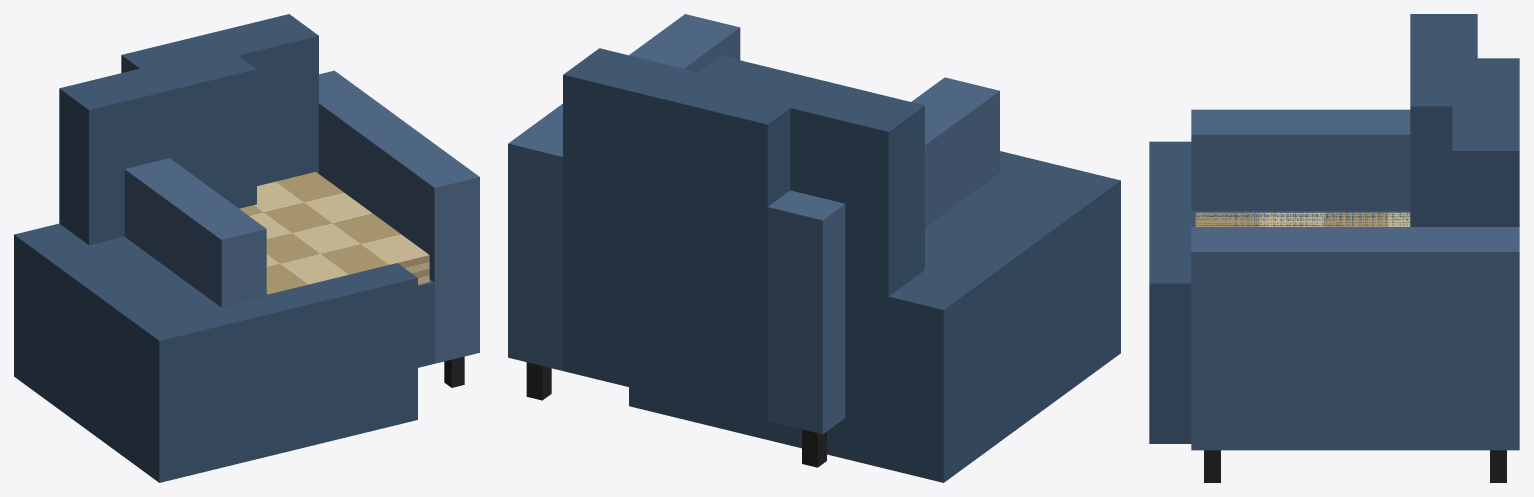
The model's file is test-armchair.glb.
3 renders of one model, left to right at view 1: azimuth 30°, elevation 25°; view 2: azimuth 150°, elevation 25°; view 3: azimuth 270°, elevation 25°, orthographic. The views are drawn at different scales.
Visible parts, largest first — view 1: low, chair; view 2: chair, low; view 3: chair, low.
Boxes of the visible parts, left/top/right/bottom form: low: left=14, top=47, right=417, bottom=482; chair: left=121, top=14, right=479, bottom=387; chair: left=508, top=14, right=999, bottom=467; low: left=629, top=55, right=1120, bottom=482; chair: left=1191, top=58, right=1519, bottom=482; low: left=1149, top=14, right=1477, bottom=443.
Size of the model in its own units: 1.05 by 0.82 by 0.88.
Materials: 2 (1 with a texture image).
